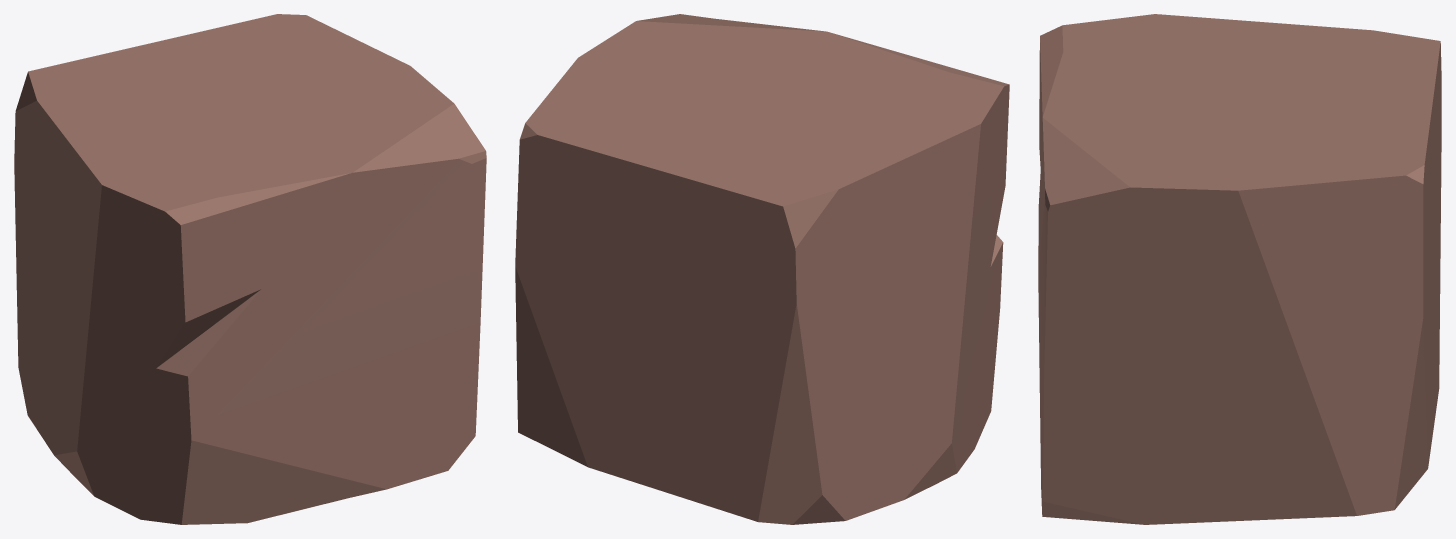
The model's file is Stone_002.FBX.
3 renders of one model, left to right at view 1: azimuth 30°, elevation 25°; view 2: azimuth 150°, elevation 25°; view 3: azimuth 270°, elevation 25°, orthographic. The views are drawn at different scales.
Visible parts, largest first — view 1: Stone_002; view 2: Stone_002; view 3: Stone_002.
Boxes of the visible parts, left/top/right/bottom form: Stone_002: left=14, top=14, right=486, bottom=524; Stone_002: left=515, top=14, right=1009, bottom=524; Stone_002: left=1038, top=14, right=1441, bottom=524.
Size of the model in its own units: 21.58 by 19.97 by 20.02.
